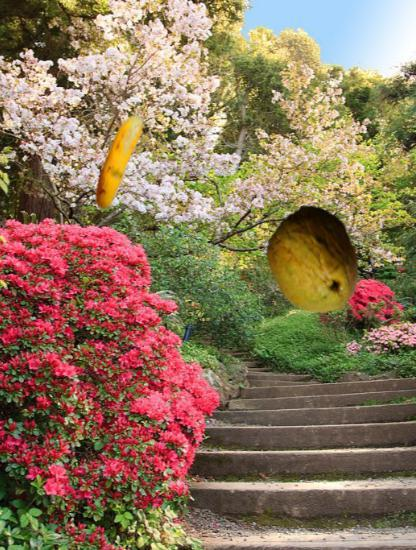Banana: (66, 109, 171, 214)
Papaya: (259, 205, 370, 316)
